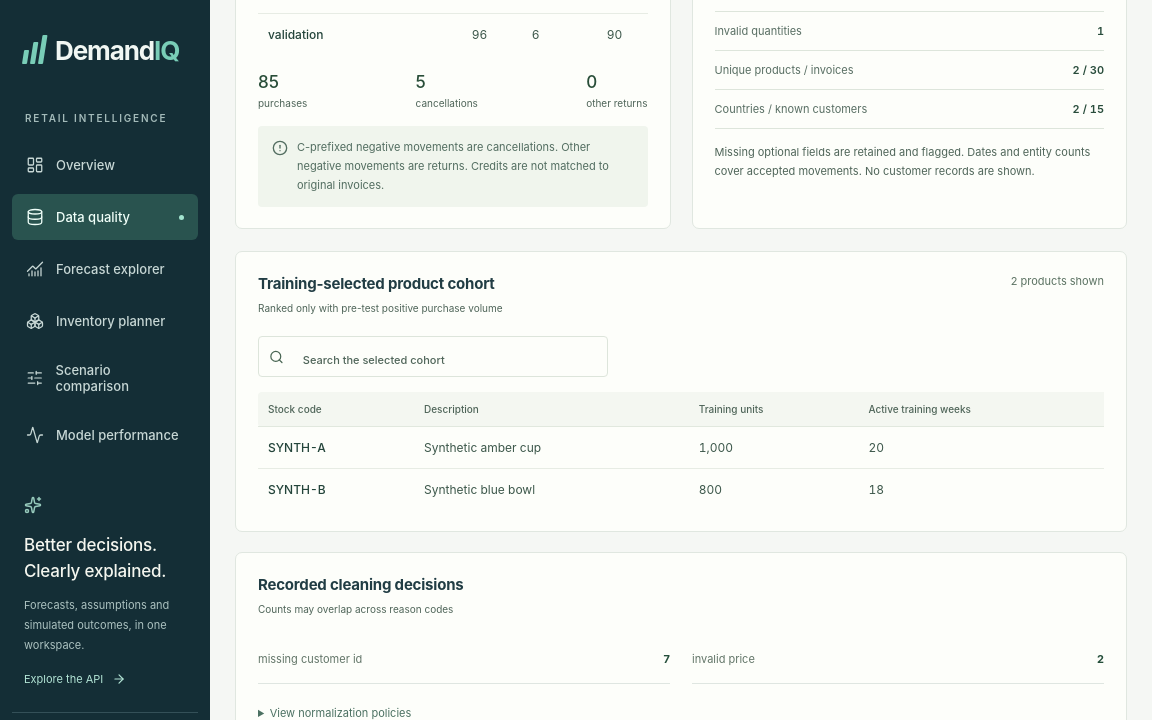
Test: workspace pages connected to typed API results › renders quality decisions and filters the training-selected cohort
(page scrolled)
Type "blue" into the field named "Filter selected products" at x=444, y=360, box [292,344,597,376]
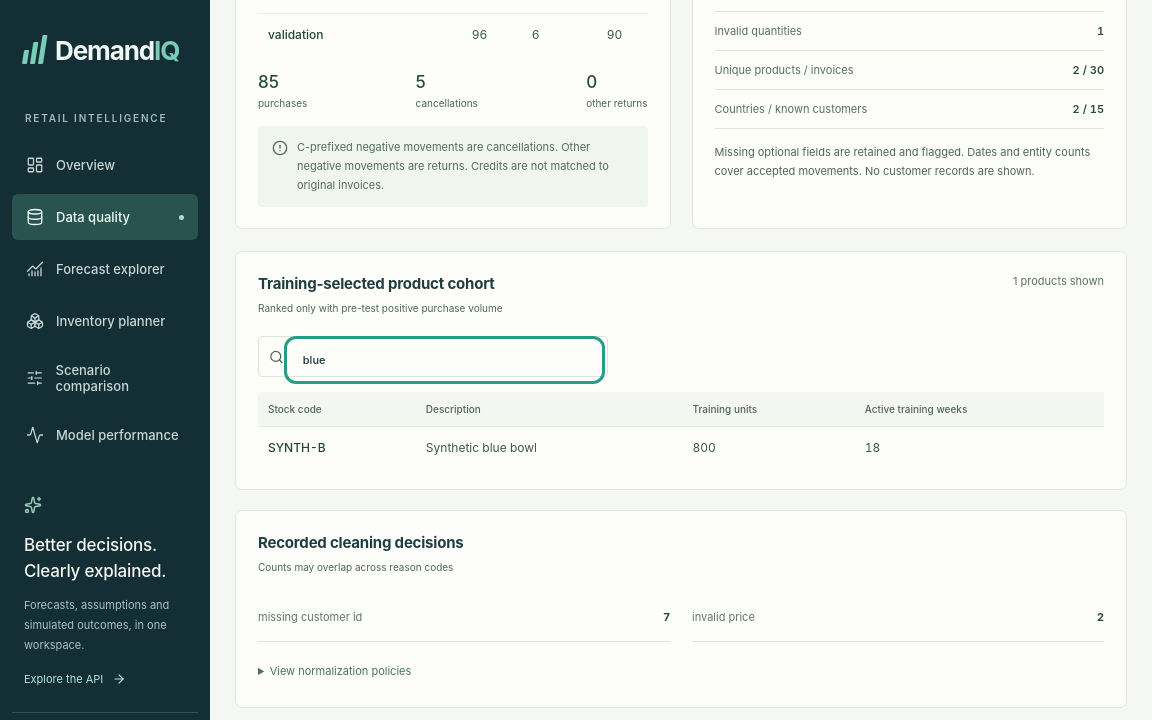
Check: the text "Synthetic blue bowl" is shown, box [416,427,683,468]
Check: the text "Synthetic amber cup" is gone
